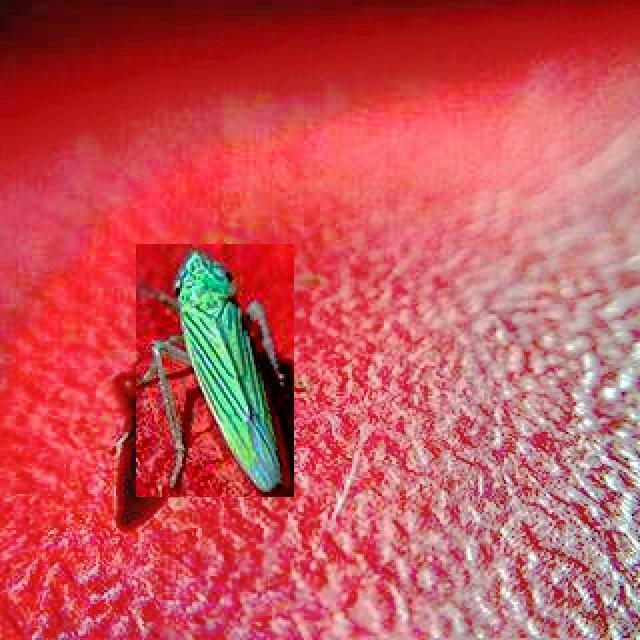green-leafhopper: (136, 244, 294, 497)
